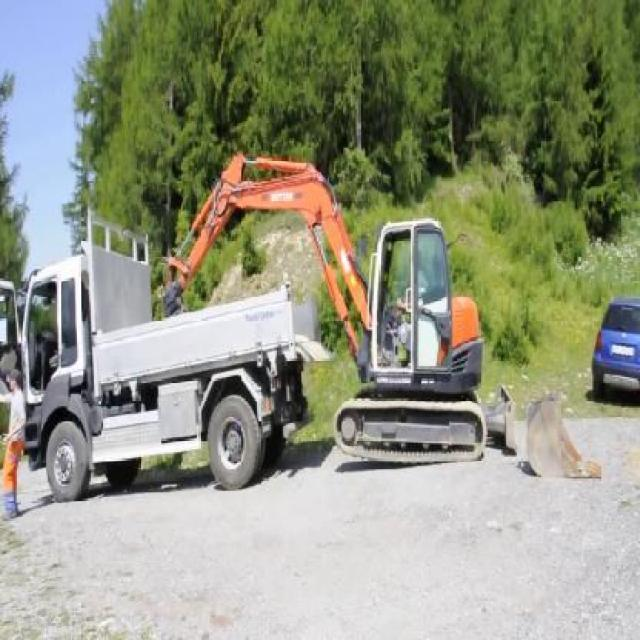dump_truck: (19, 216, 327, 502)
excavator: (162, 155, 486, 470)
